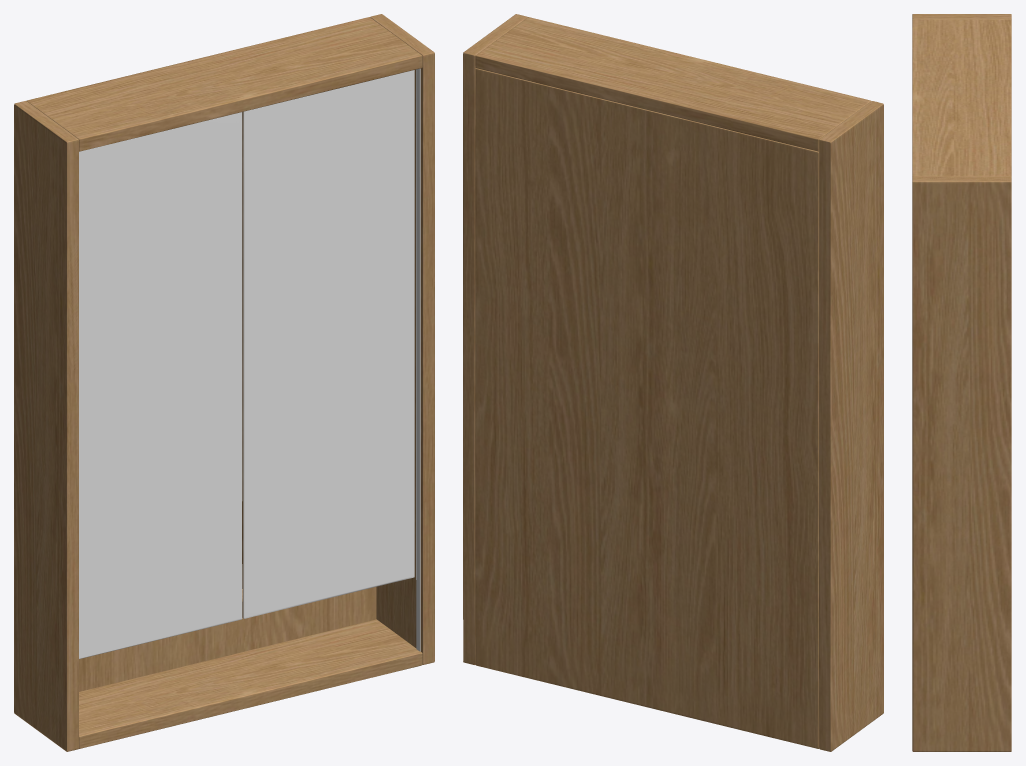
The model's file is faxalven_szafka_z_lustrem_z_wbud_oswietl_09516711.glb.
3 renders of one model, left to right at view 1: azimuth 30°, elevation 25°; view 2: azimuth 150°, elevation 25°; view 3: azimuth 270°, elevation 25°, orthographic. The views are drawn at different scales.
Parts seen in each view (by area): view 1: faxalven_szafka_z_lustrem_z_wbud_oswietl_09516711; view 2: faxalven_szafka_z_lustrem_z_wbud_oswietl_09516711; view 3: faxalven_szafka_z_lustrem_z_wbud_oswietl_09516711.
Boxes of the visible parts, x1,y1,x2,y2 form: faxalven_szafka_z_lustrem_z_wbud_oswietl_09516711: (14,14,434,751); faxalven_szafka_z_lustrem_z_wbud_oswietl_09516711: (463,14,883,751); faxalven_szafka_z_lustrem_z_wbud_oswietl_09516711: (912,14,1011,751).
Bounding box in the file's own units: 0.6 × 0.95 × 0.15.
Materials: 1 (1 with a texture image).
